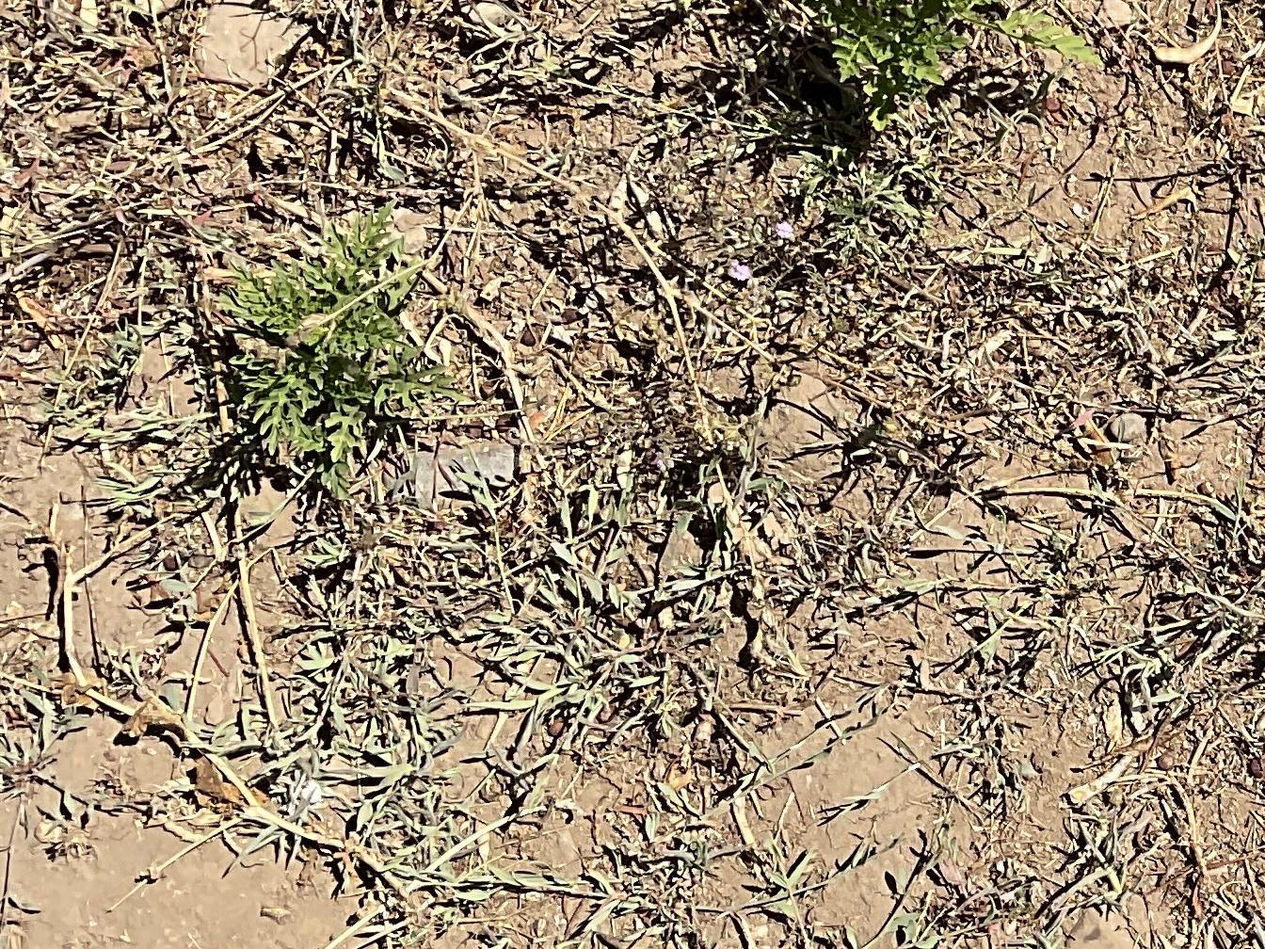AMBEL: (208, 196, 469, 494)
